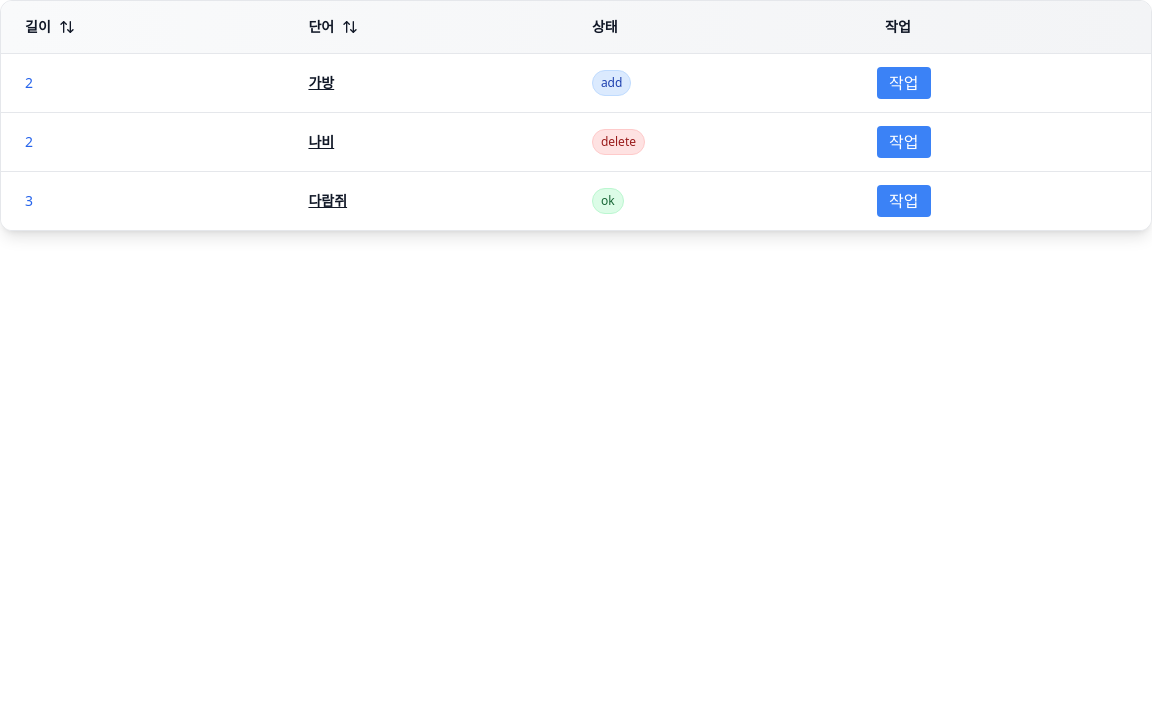
Table administrator and legacy user actions › conflict 실패는 작업 모달을 유지하고 안전한 메시지만 표시한다
Click the button "작업" in the row of "가방" at (904, 83), box top-left (877, 67), bottom-right (930, 99)
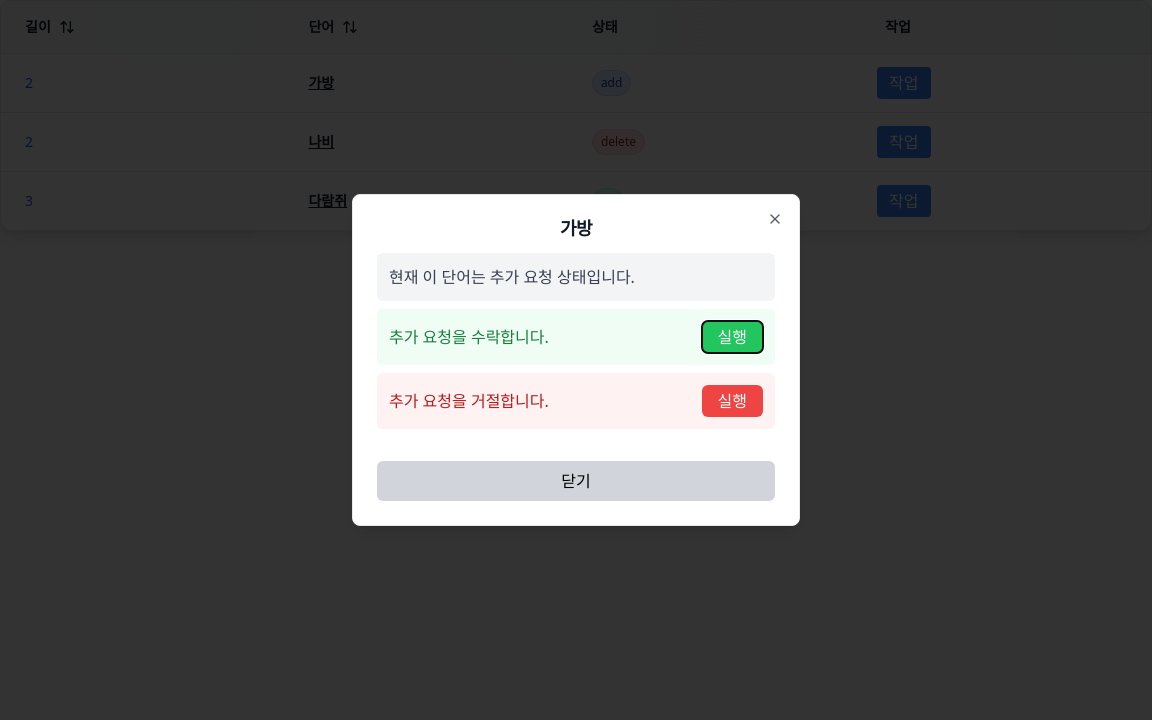
Click the button "실행" next to "추가 요청을 수락합니다." at (732, 337), box top-left (702, 321), bottom-right (763, 353)
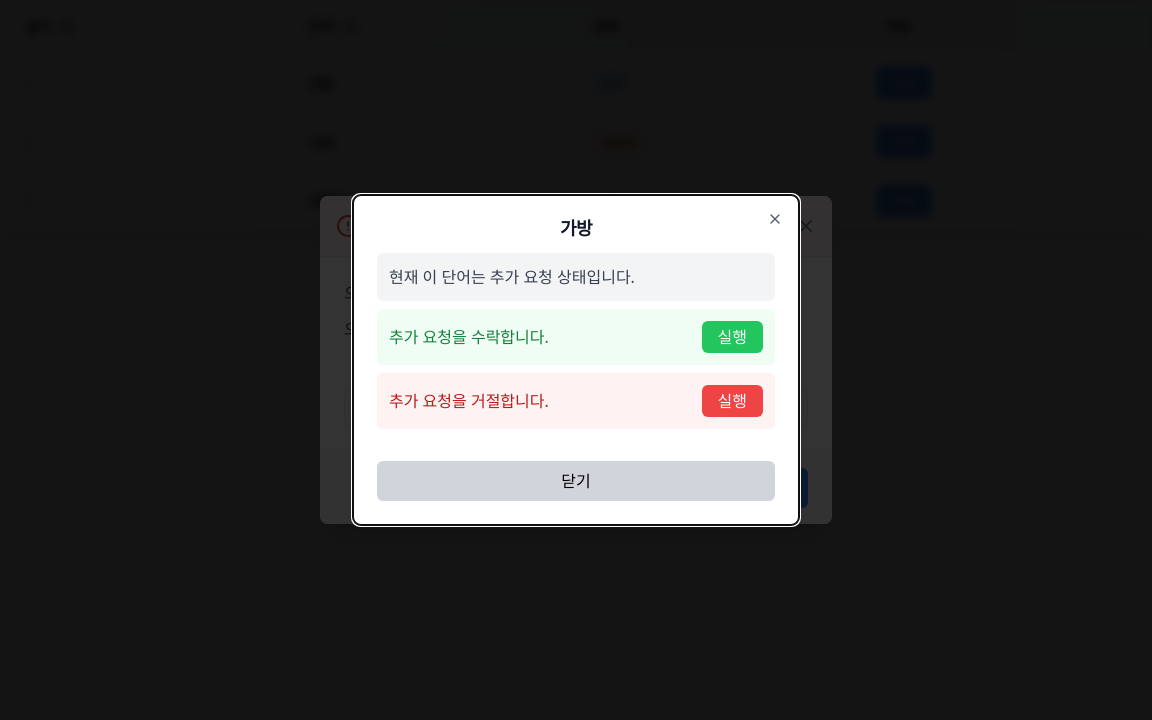
Now the text "현재 이 단어는 추가 요청 상태입니다." is shown, box top-left (389, 265), bottom-right (635, 289)
Now the text "요청 목록이 변경되었습니다. 새로고침 후 다시 시도해 주세요." is shown, box top-left (440, 317), bottom-right (808, 365)
